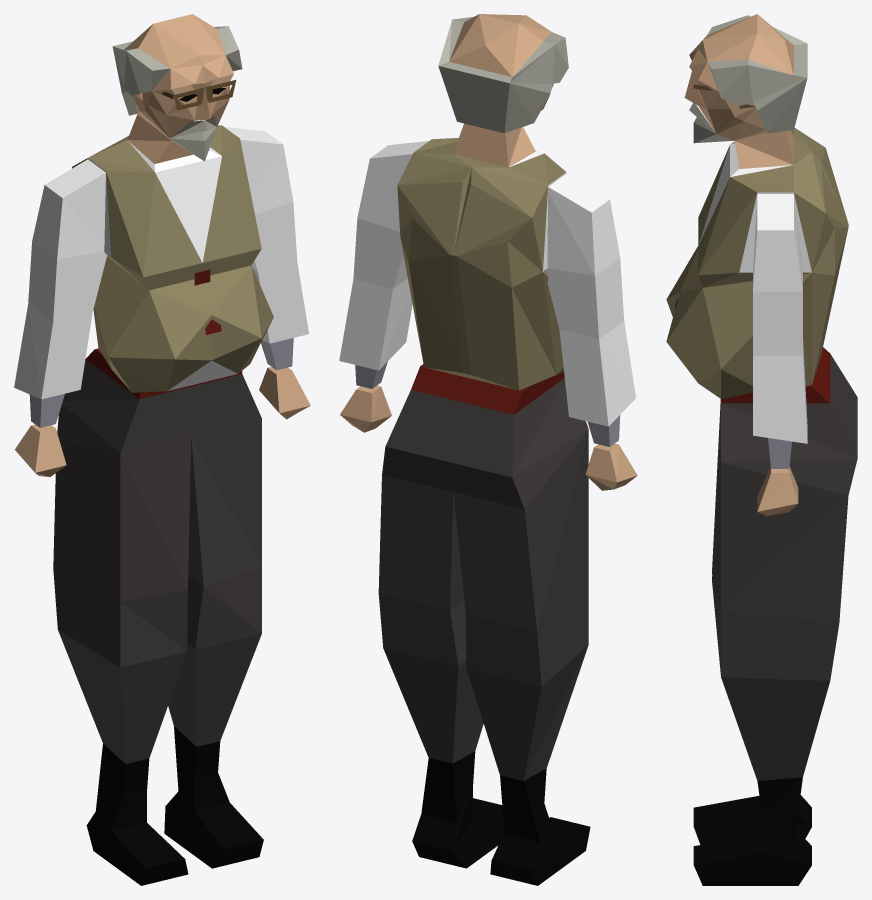
File: dr_jekyll.glb
3 views of the same model, side by side, from view 1: azimuth 30°, elevation 25°; view 2: azimuth 150°, elevation 25°; view 3: azimuth 270°, elevation 25° (orthographic).
Size of the model in its own units: 70 by 202 by 42.
1 material, 1 textured.
